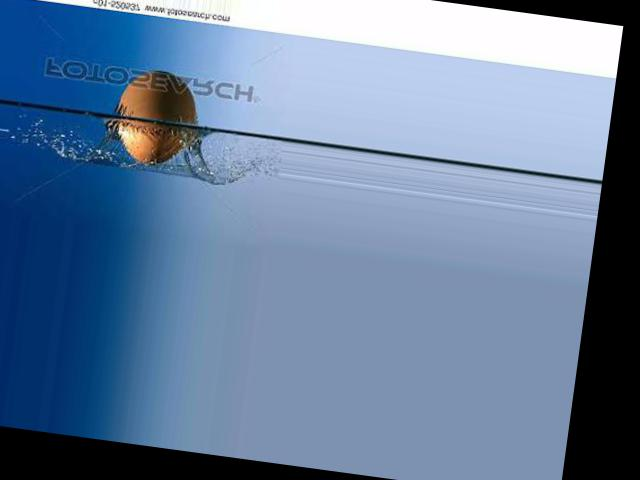egg: (112, 67, 201, 170)
